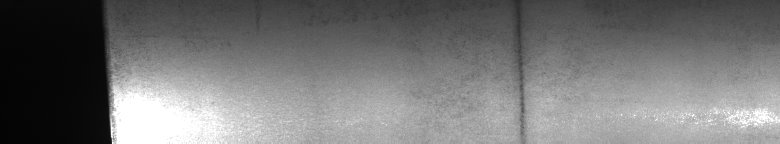hd: (508, 4, 532, 136)
